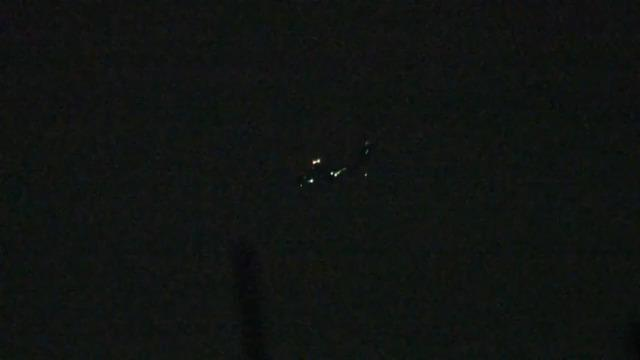Plane: (288, 150, 365, 186)
